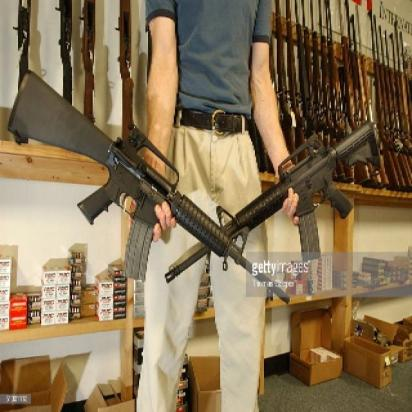Gun: (5, 65, 296, 308), (156, 113, 382, 288)
